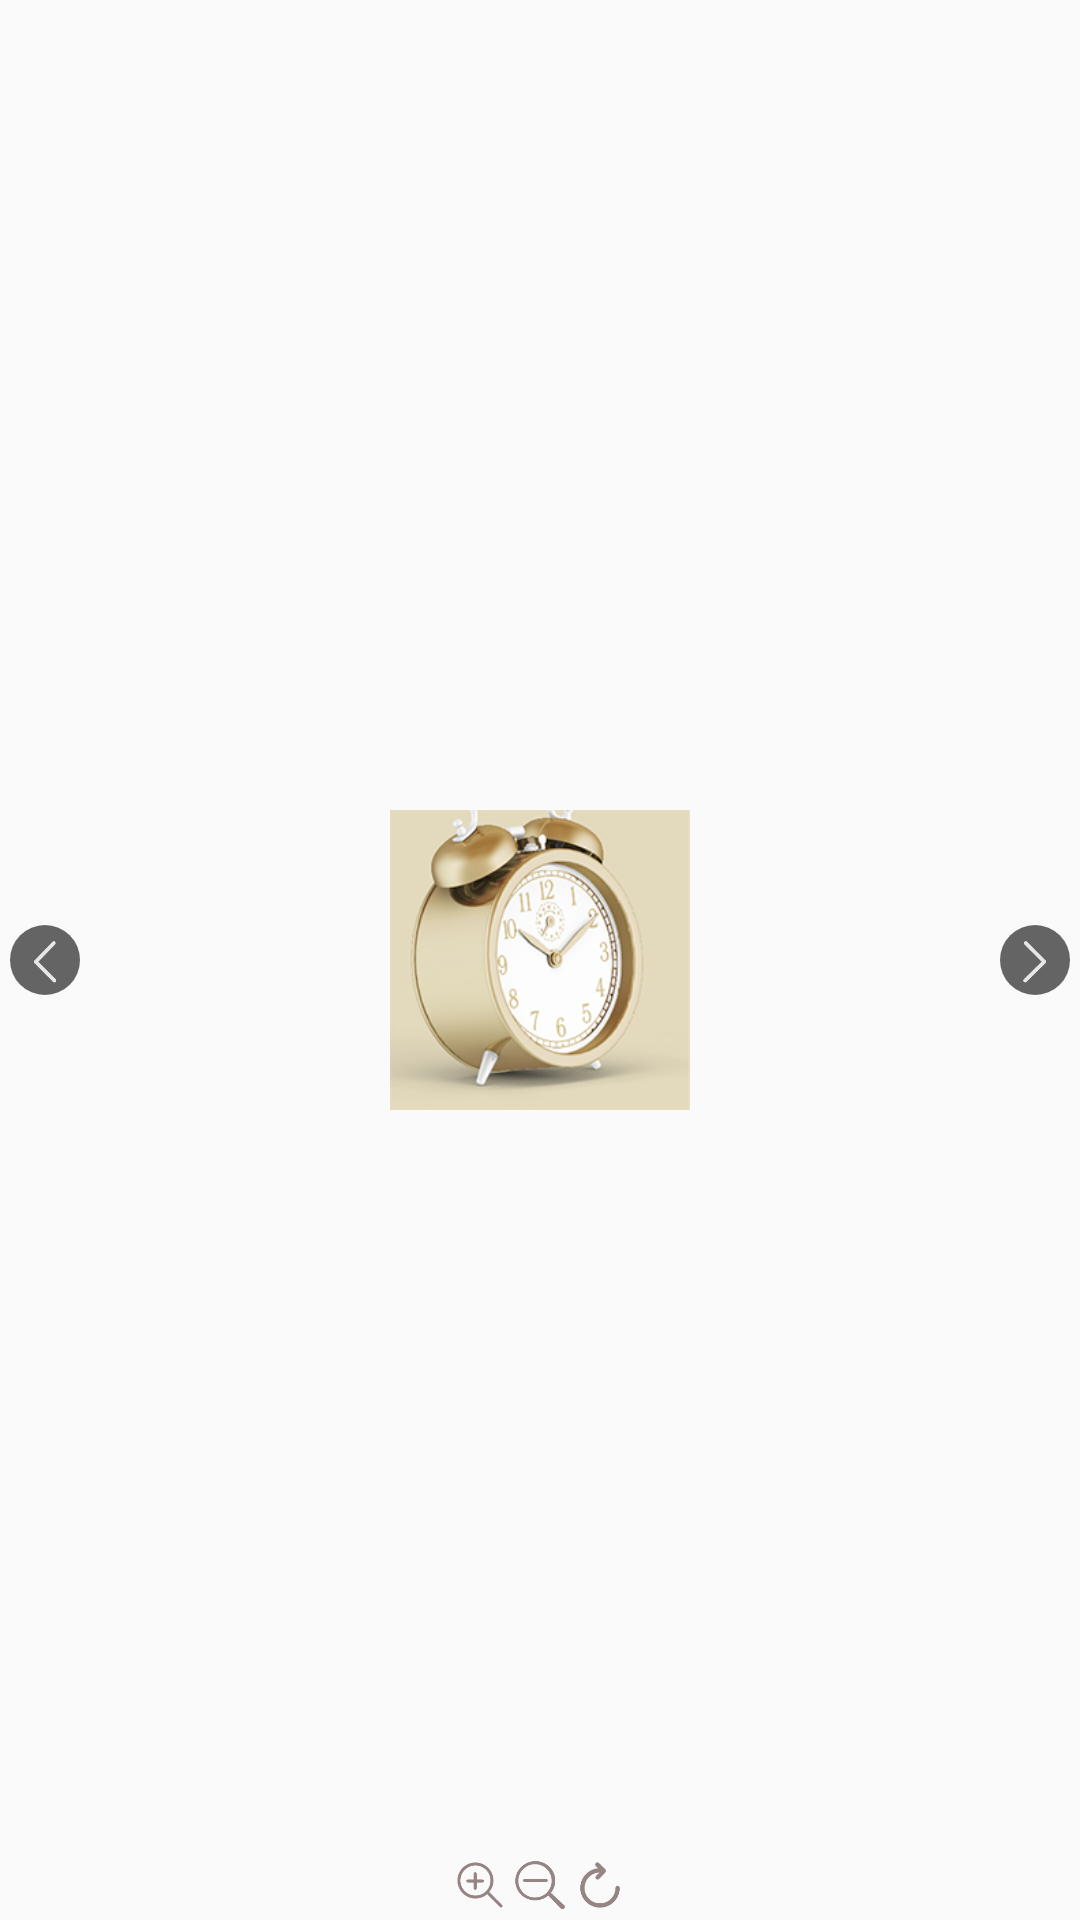

Icon click points for this 1080*1920 phone screenshot, format (x,y):
enlarge: (480,1885)
next: (1035,960)
prev: (45,960)
rotation: (600,1885)
smaller: (540,1885)
